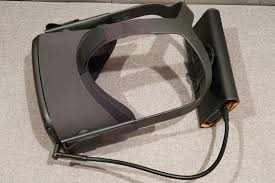oculus: (32, 14, 214, 145)
